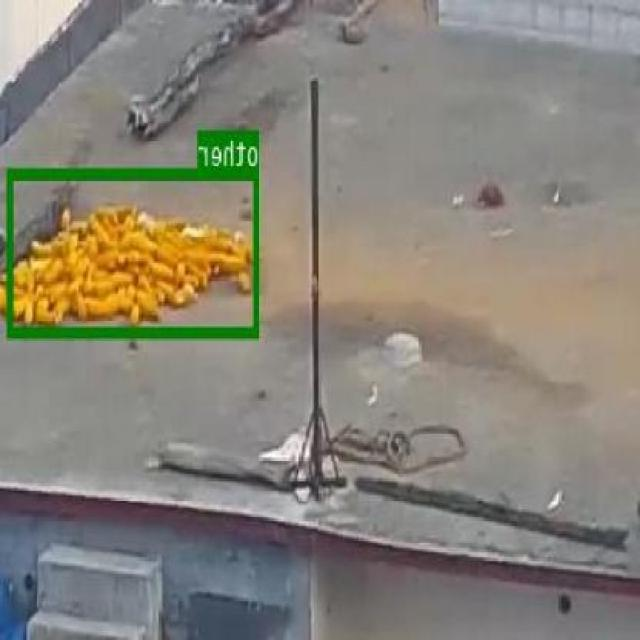other: (8, 168, 262, 337)
